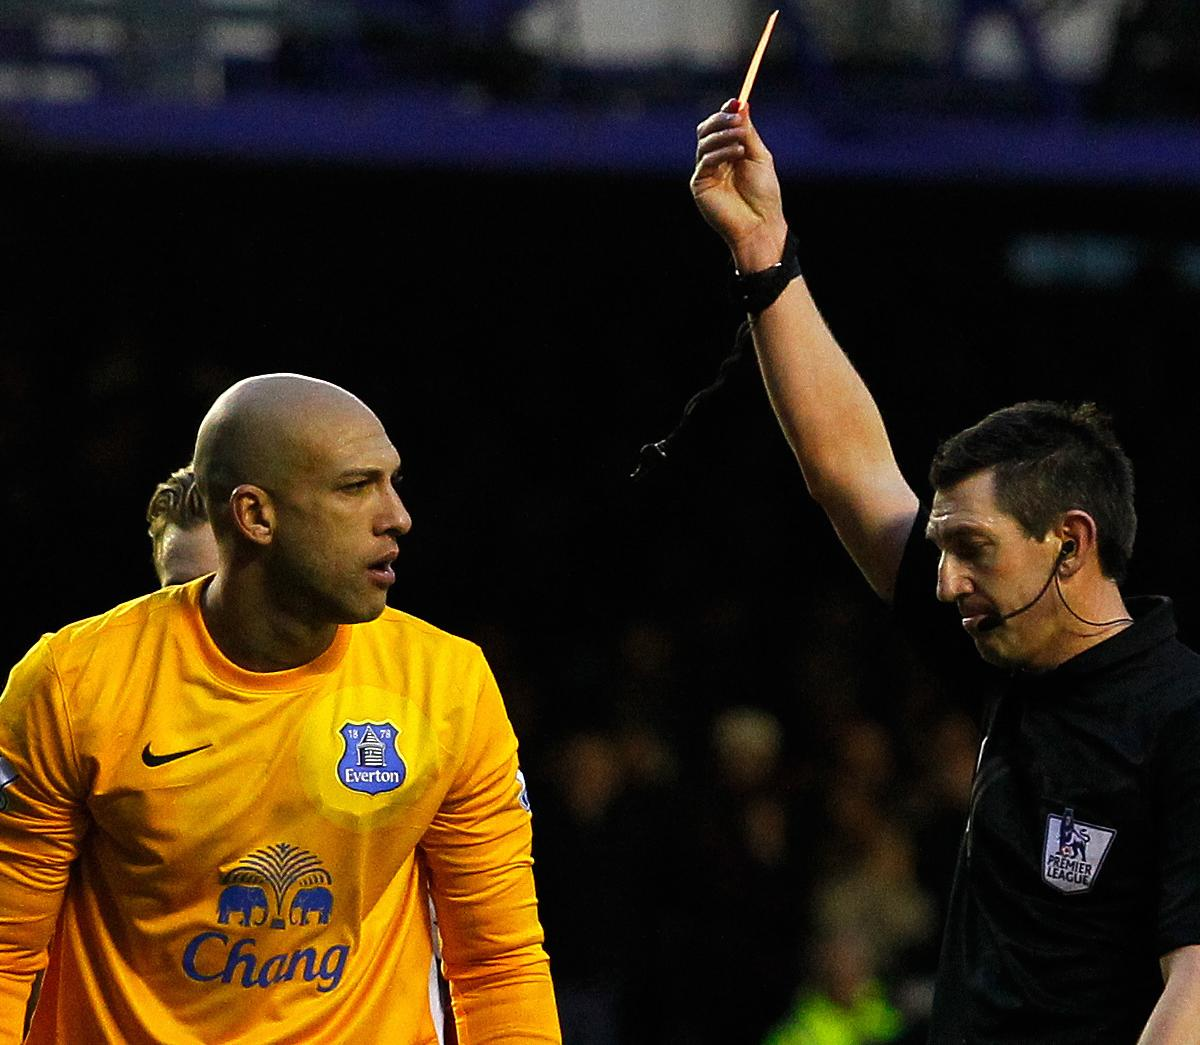yellow_card: (676, 3, 830, 250)
